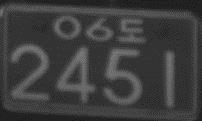0: (52, 14, 82, 41)
1: (153, 47, 190, 108)
2: (10, 42, 50, 102)
4: (55, 45, 97, 105)
5: (101, 47, 143, 106)
6: (84, 16, 115, 42)
도: (116, 17, 147, 44)
